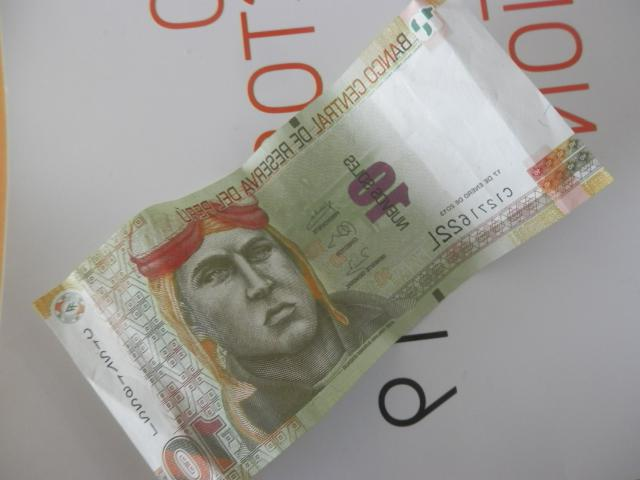B10: (34, 2, 614, 480)
